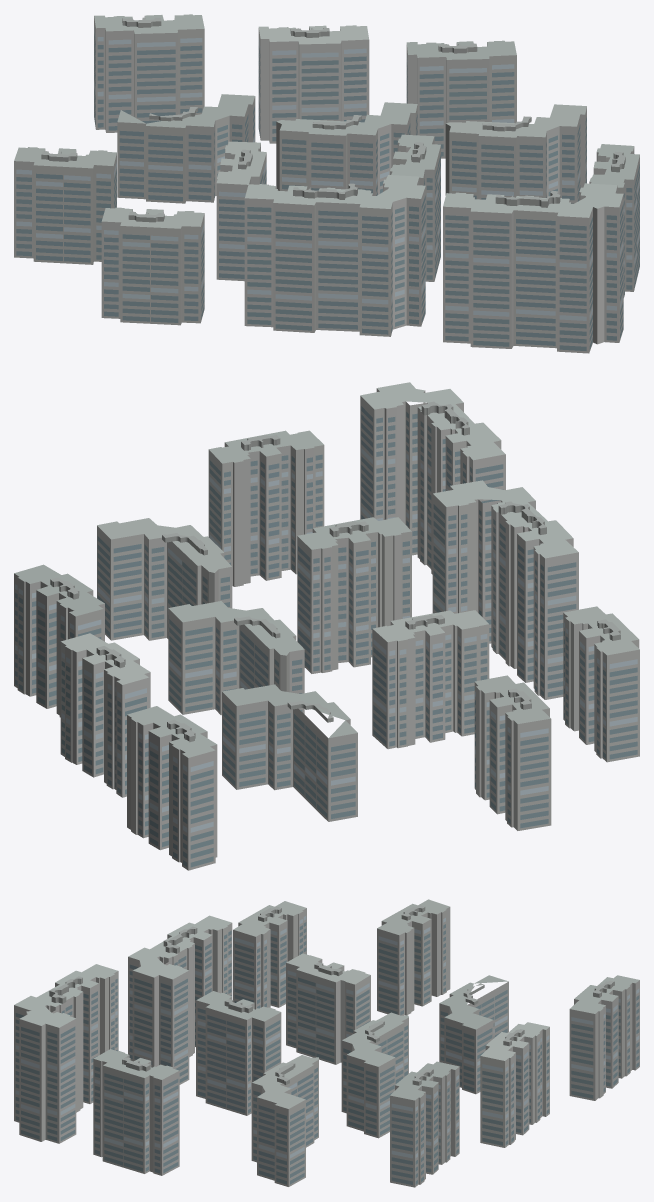
File: apt-a12127008.glb
3 renders of one model, top to bottom at view 1: azimuth 30°, elevation 25°; view 2: azimuth 150°, elevation 25°; view 3: azimuth 270°, elevation 25°, orthographic. The views are drawn at different scales.
Parts seen in each view (by area): view 1: apt-a12127008; view 2: apt-a12127008; view 3: apt-a12127008.
Boxes of the visible parts, bbox=[...] form: apt-a12127008: bbox=[14, 14, 639, 353]; apt-a12127008: bbox=[14, 382, 639, 870]; apt-a12127008: bbox=[14, 899, 639, 1187].
Size of the model in its own units: 189 by 52 by 243.
